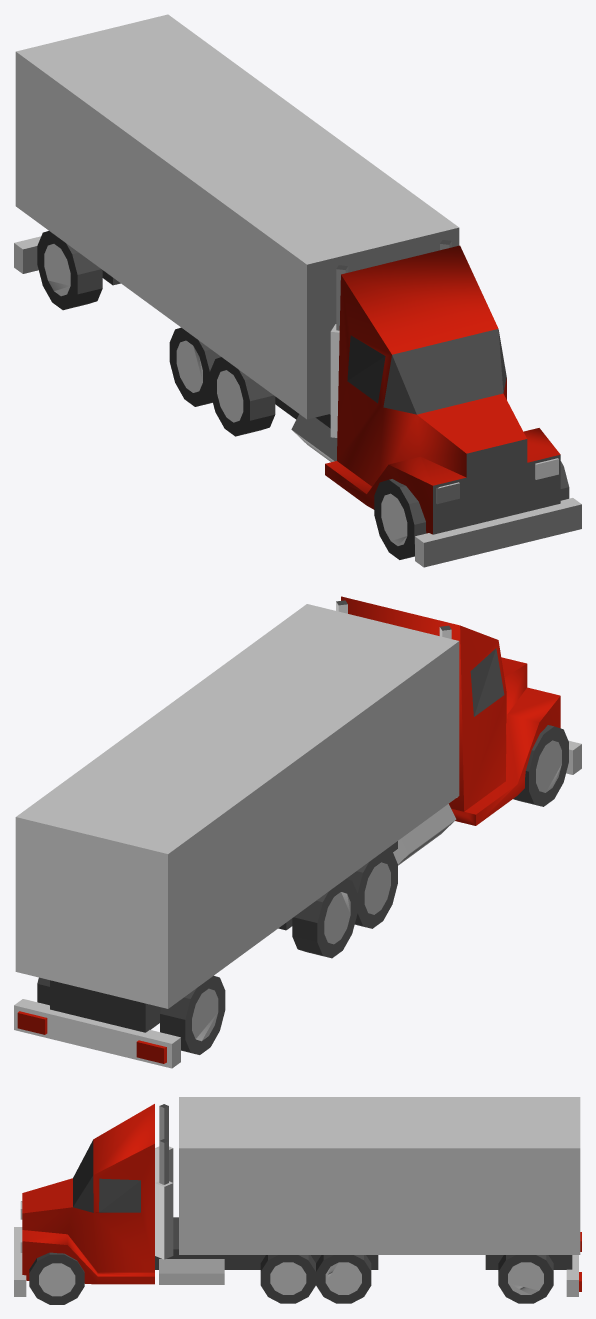
File: truck.dae
The picture shows the model from 3 angles, top to bottom: view 1: azimuth 30°, elevation 25°; view 2: azimuth 150°, elevation 25°; view 3: azimuth 270°, elevation 25°; orthographic projection. The views are drawn at different scales.
Visible parts, largest first — view 1: polymsh2_Pts_Material__3__Surf, polymsh2_Pts_Material__2__Surf, polymsh2_Pts_Material__1__Surf; view 2: polymsh2_Pts_Material__3__Surf, polymsh2_Pts_Material__2__Surf, polymsh2_Pts_Material__1__Surf; view 3: polymsh2_Pts_Material__3__Surf, polymsh2_Pts_Material__2__Surf, polymsh2_Pts_Material__1__Surf.
Part boxes in pixels (box(x1,y1,x2,y2)): polymsh2_Pts_Material__3__Surf: box(14, 14, 581, 567); polymsh2_Pts_Material__2__Surf: box(325, 245, 560, 534); polymsh2_Pts_Material__1__Surf: box(37, 231, 569, 559); polymsh2_Pts_Material__3__Surf: box(14, 602, 581, 1068); polymsh2_Pts_Material__2__Surf: box(17, 596, 560, 1063); polymsh2_Pts_Material__1__Surf: box(37, 600, 568, 1054); polymsh2_Pts_Material__3__Surf: box(14, 1097, 580, 1296); polymsh2_Pts_Material__2__Surf: box(22, 1104, 581, 1291); polymsh2_Pts_Material__1__Surf: box(29, 1104, 572, 1304).
Bounding box in the file's own units: 20.88 × 28.58 × 94.24.
